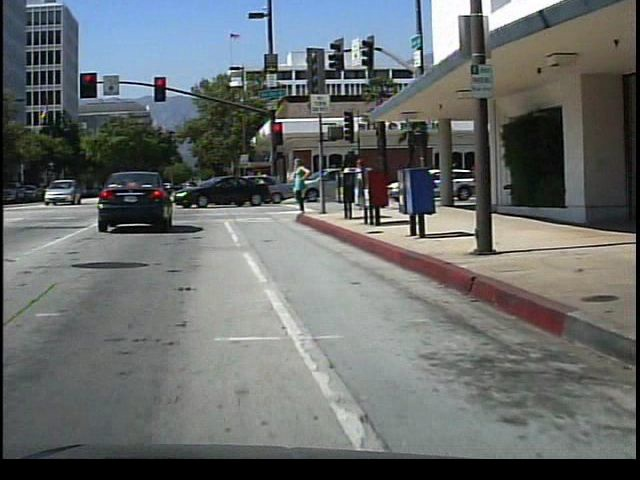person: (291, 152, 317, 218), (354, 154, 373, 211), (340, 154, 359, 211)
